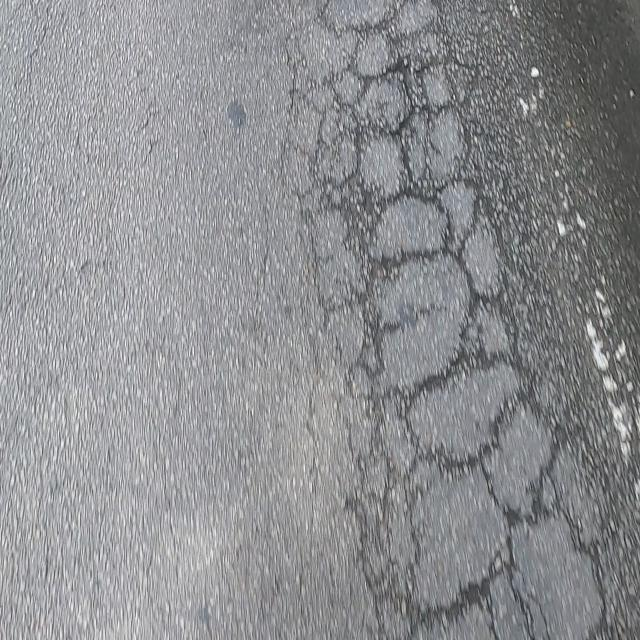Retak-Buaya: (279, 0, 612, 640)
